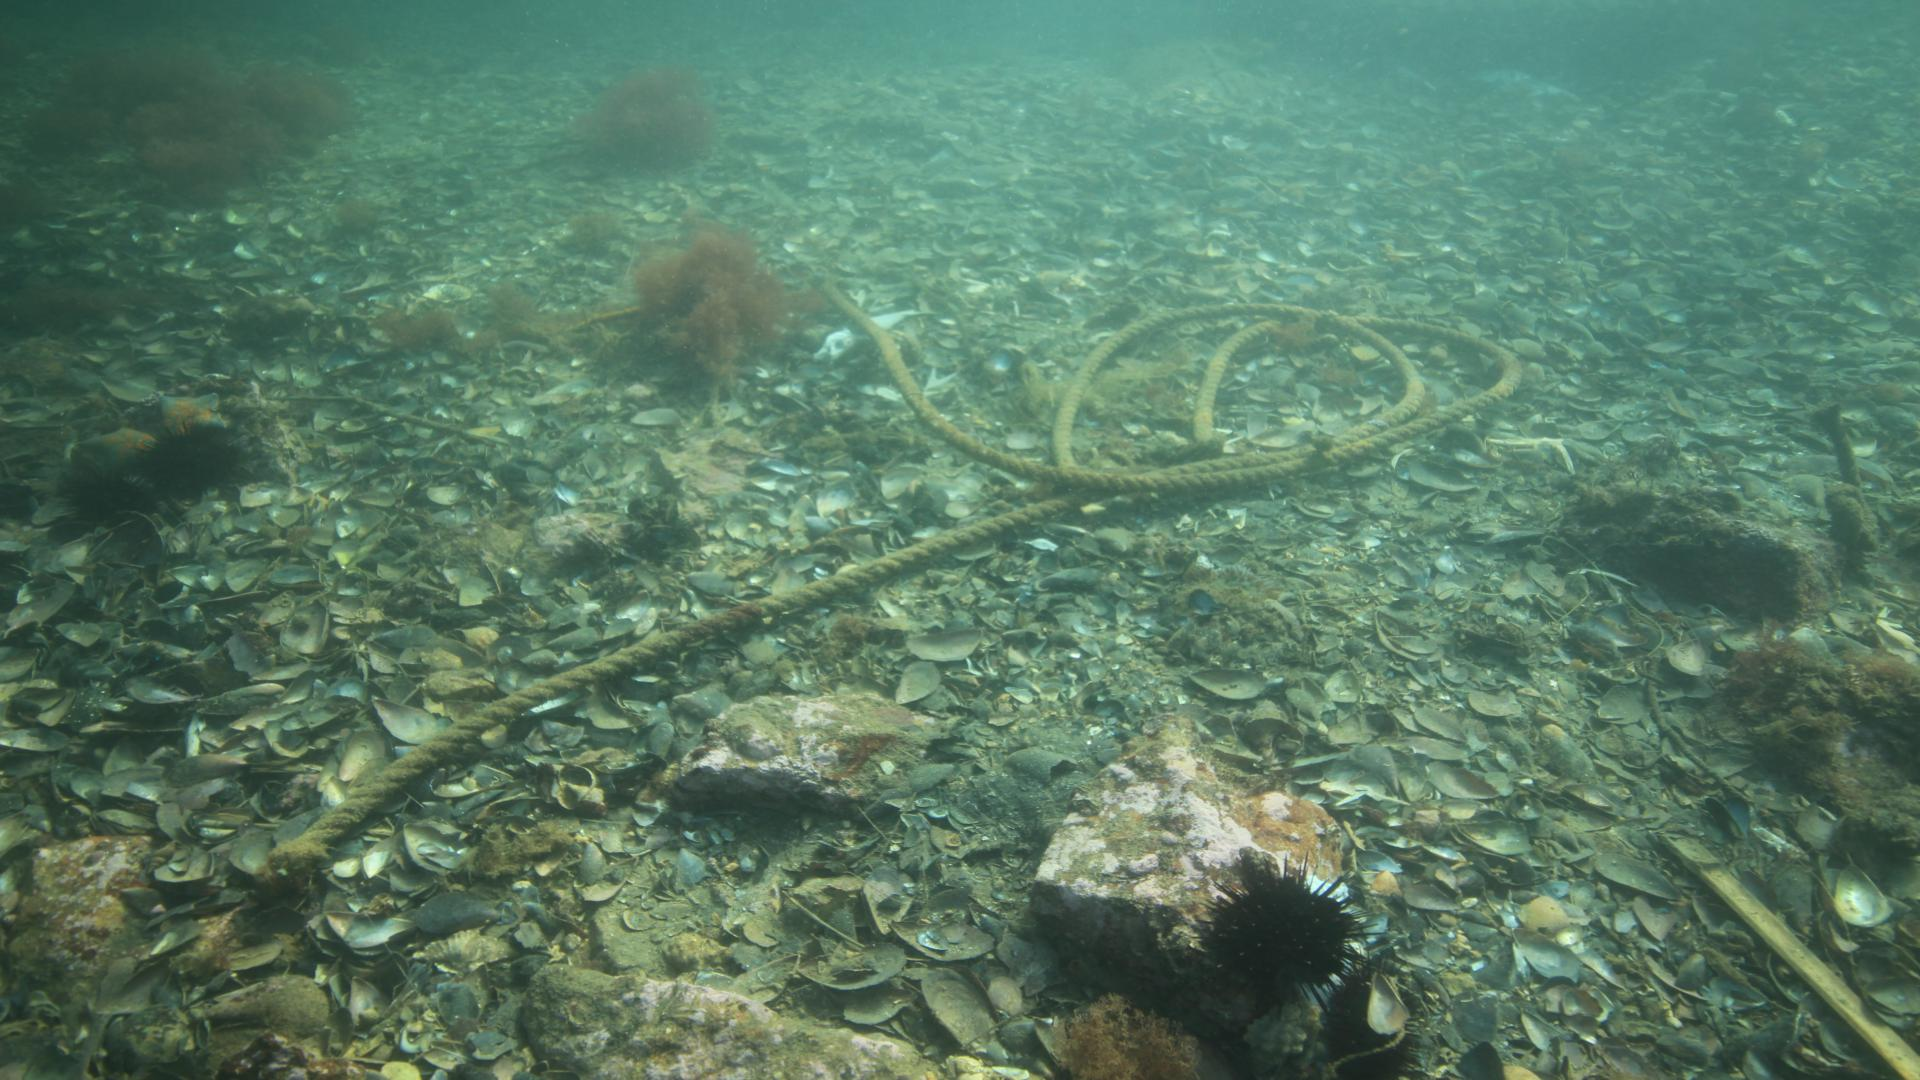bundle of ropes: (320, 224, 1528, 833)
